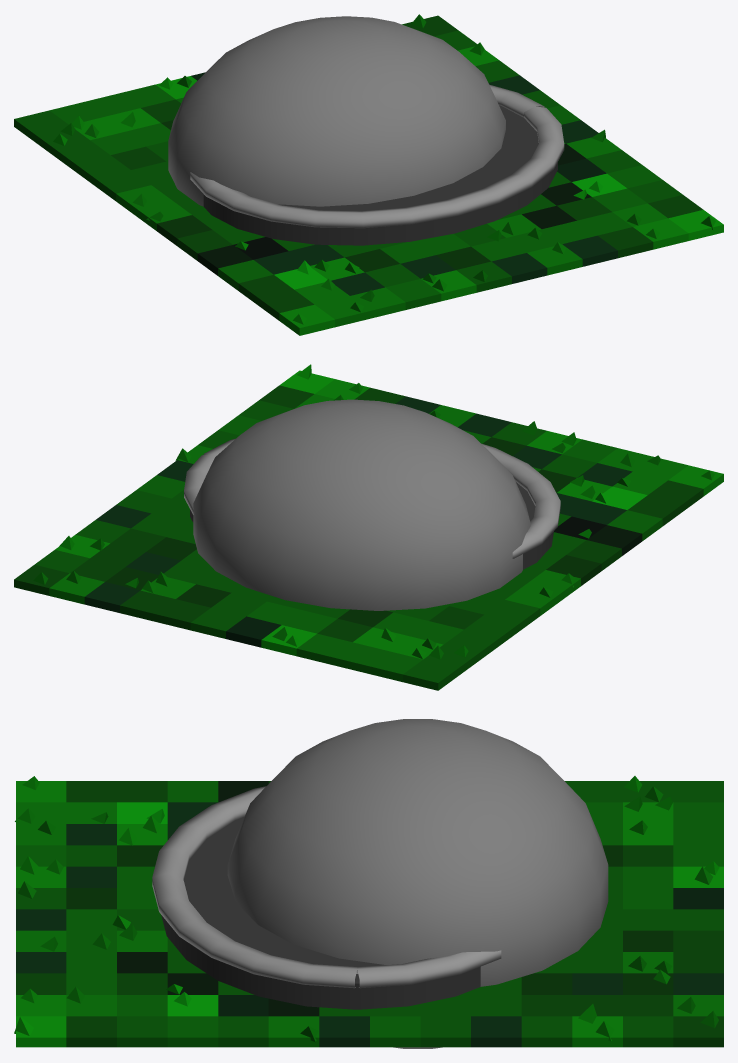
File: newshj-83.glb
3 renders of one model, top to bottom at view 1: azimuth 30°, elevation 25°; view 2: azimuth 150°, elevation 25°; view 3: azimuth 270°, elevation 25°, orthographic. The views are drawn at different scales.
Visible parts, largest first — view 1: newshj-83; view 2: newshj-83; view 3: newshj-83.
Boxes of the visible parts, <box> form: newshj-83: <box>14,14,723,335</box>; newshj-83: <box>14,364,723,690</box>; newshj-83: <box>14,719,723,1048</box>.
Size of the model in its own units: 2.02 by 1 by 2.34.
